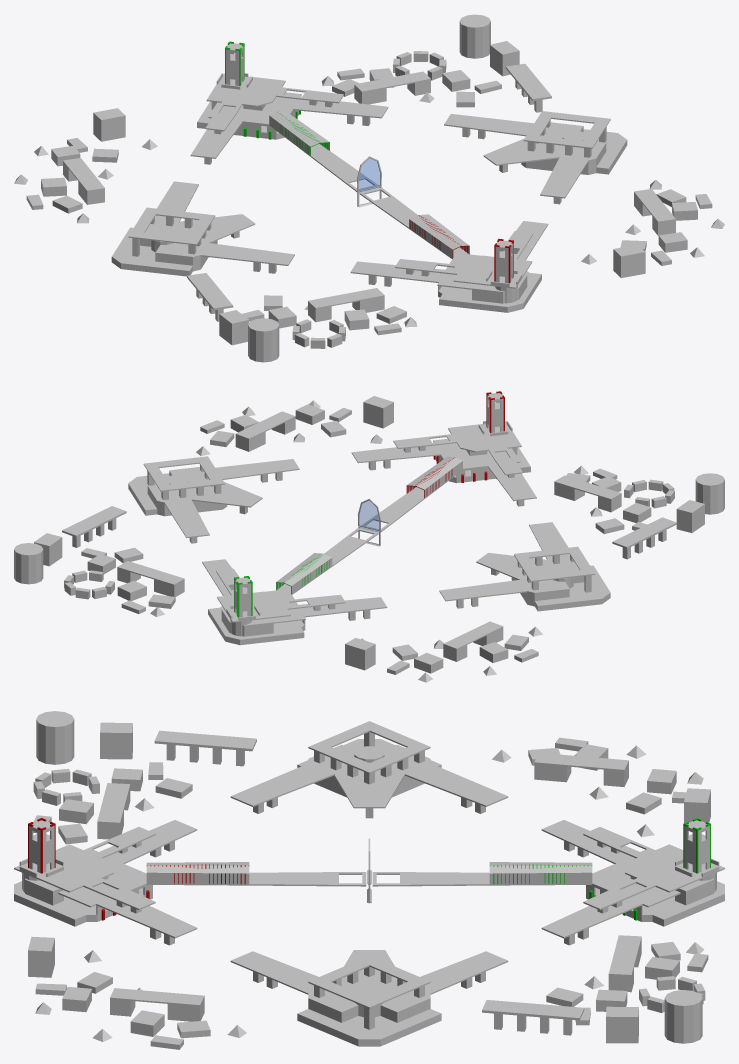
File: version-1.obj
The picture shows the model from 3 angles, top to bottom: view 1: azimuth 30°, elevation 25°; view 2: azimuth 150°, elevation 25°; view 3: azimuth 270°, elevation 25°; orthographic projection. The views are drawn at different scales.
Size of the model in its own units: 926 by 102 by 905.
